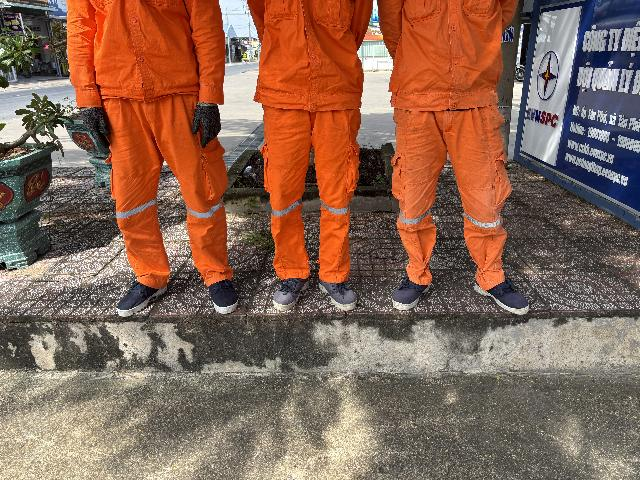gloves: (70, 100, 124, 153), (181, 99, 229, 152)
shoes: (108, 263, 180, 314), (385, 266, 439, 316), (471, 276, 534, 314), (198, 263, 240, 317), (316, 266, 361, 314), (271, 267, 311, 314)
